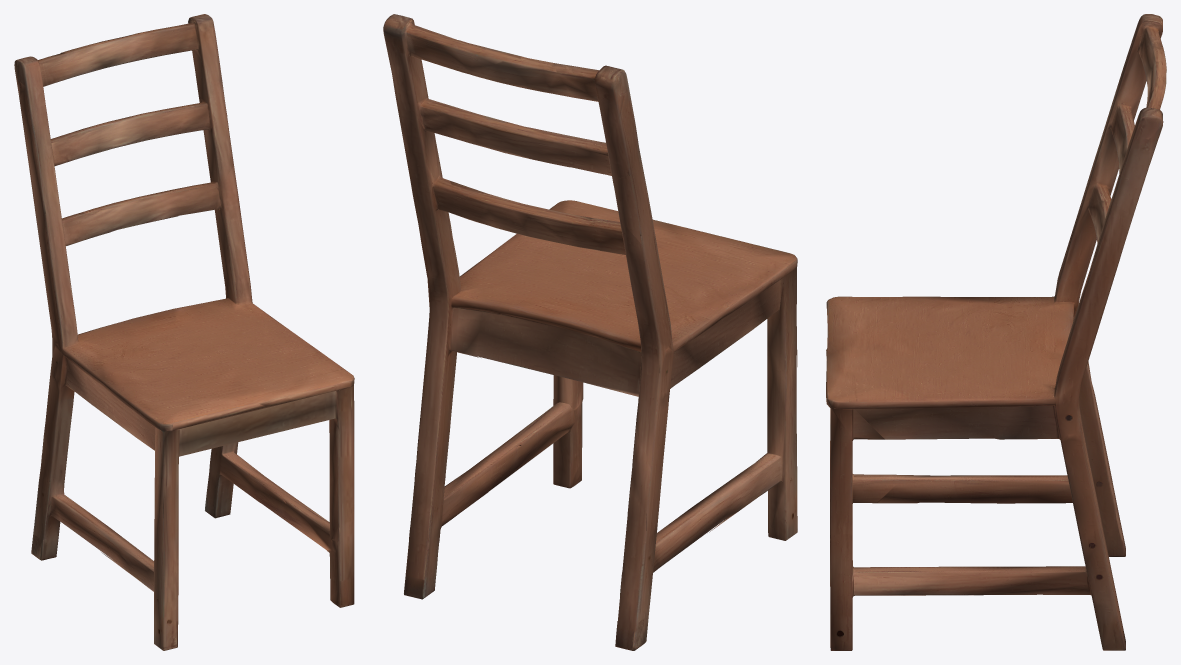
The picture shows the model from 3 angles, left to right: view 1: azimuth 30°, elevation 25°; view 2: azimuth 150°, elevation 25°; view 3: azimuth 270°, elevation 25°; orthographic projection. The views are drawn at different scales.
Parts seen in each view (by area): view 1: Mesh_0; view 2: Mesh_0; view 3: Mesh_0.
Part boxes in pixels (x1,y1,x2,y2): Mesh_0: (14,14,354,650); Mesh_0: (383,14,797,650); Mesh_0: (826,14,1166,650).
Size of the model in its own units: 0.8108 by 1.91 by 1.1.
1 material, 1 textured.
